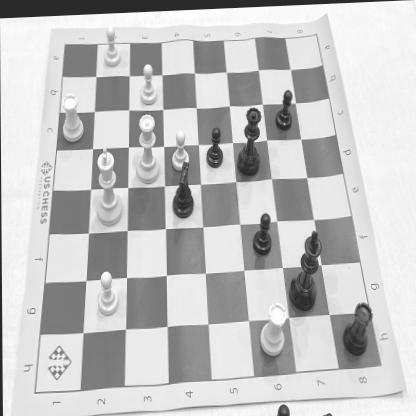black-king: (288, 226, 320, 312)
black-knight: (170, 158, 197, 218)
black-pawn: (252, 210, 274, 253), (273, 86, 294, 130), (204, 124, 223, 167)
black-queen: (236, 102, 263, 176)
black-rook: (344, 298, 373, 358)
white-king: (94, 142, 123, 226)
white-pawn: (95, 265, 119, 316), (138, 60, 158, 106), (103, 22, 122, 66), (171, 127, 190, 170)
white-queen: (134, 110, 162, 182)
white-rook: (258, 298, 286, 357), (58, 87, 86, 141)
